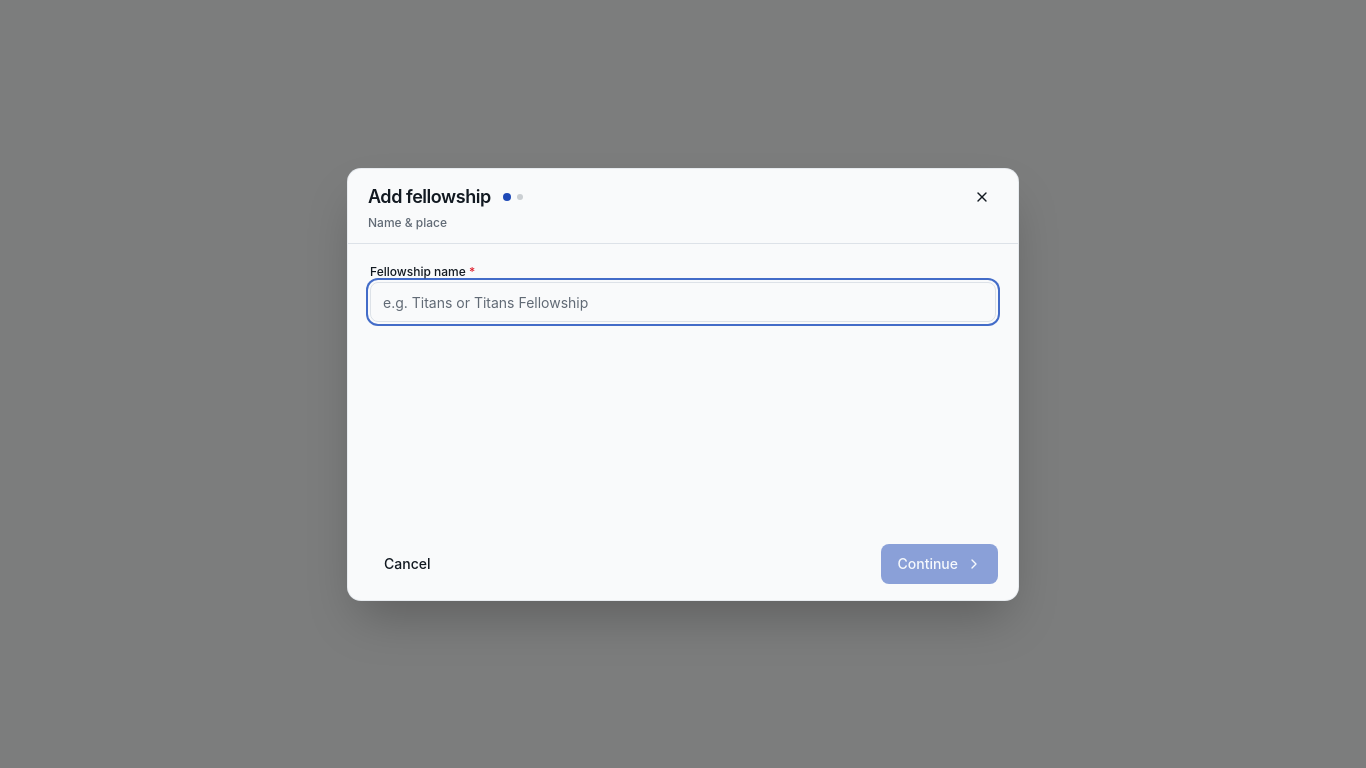
Test: UnitCreateWizard › shows state and home address on the US leader step and blocks continue without state
The width and height of the screenshot is (1366, 768).
Type "Zion" into the field labelled "Fellowship name *" at (683, 302), box [370,282,996,322]
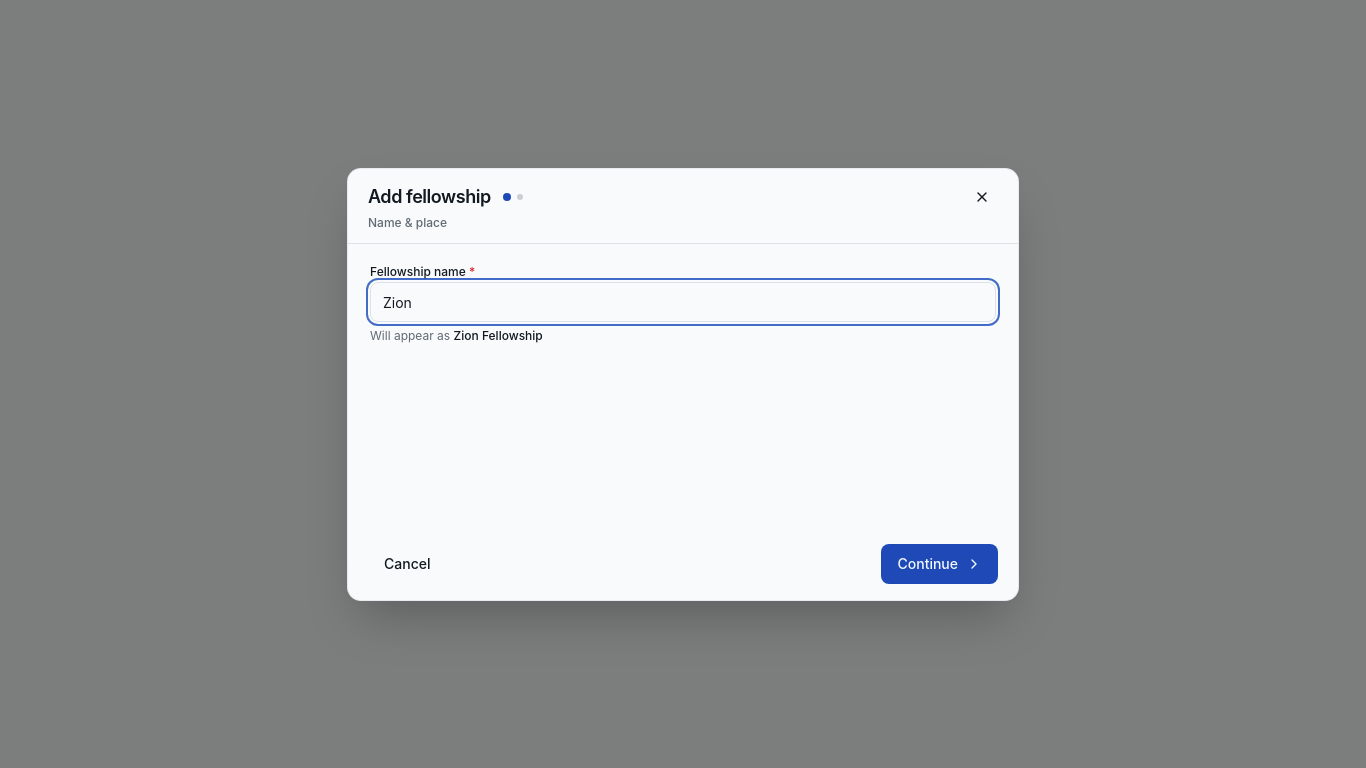
Click the button "Continue" at (940, 564), box [882,544,998,584]
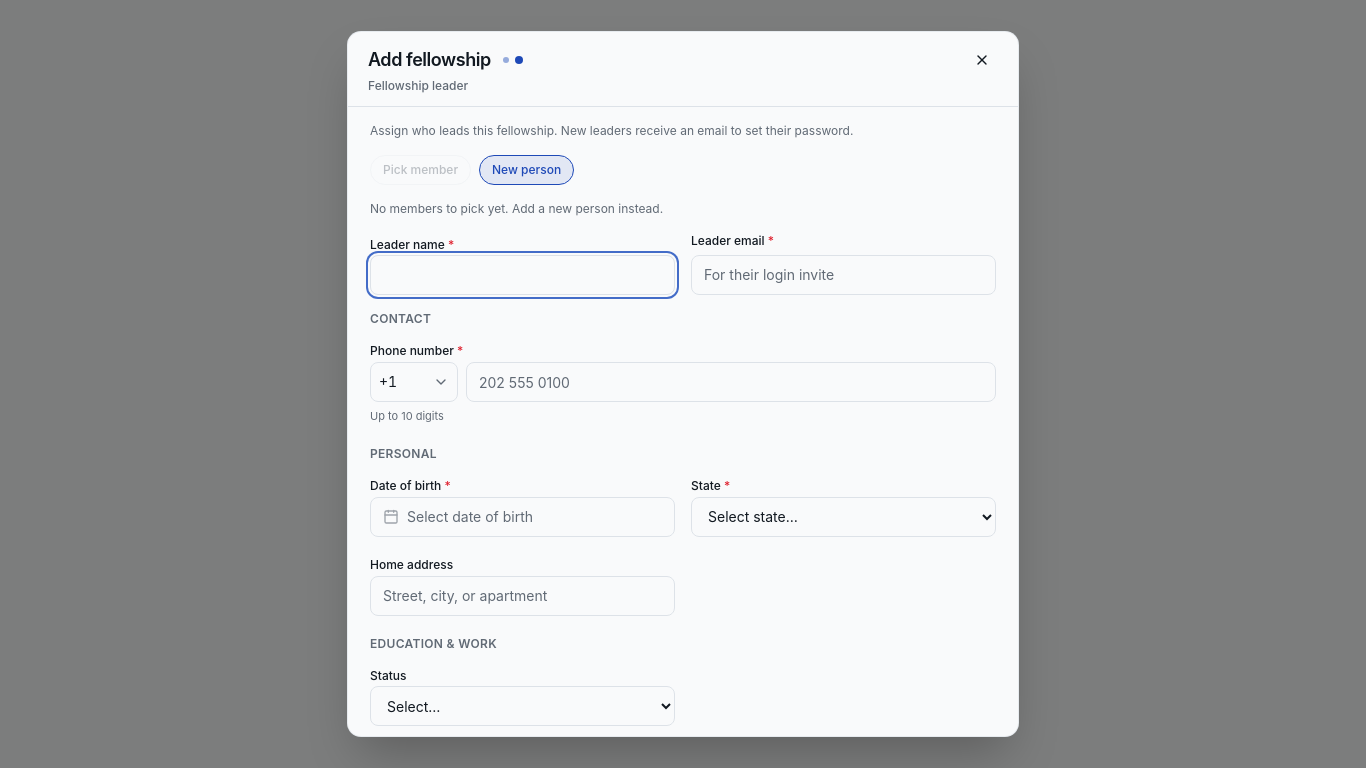
expect the field labelled "Home address" is shown: met, box [370,576,675,616]
expect the dropdown labelled "State *" is shown: met, box [691,497,996,537]
Type "Ada" into the field labelled "Leader name *" at (522, 276), box [370,256,675,296]
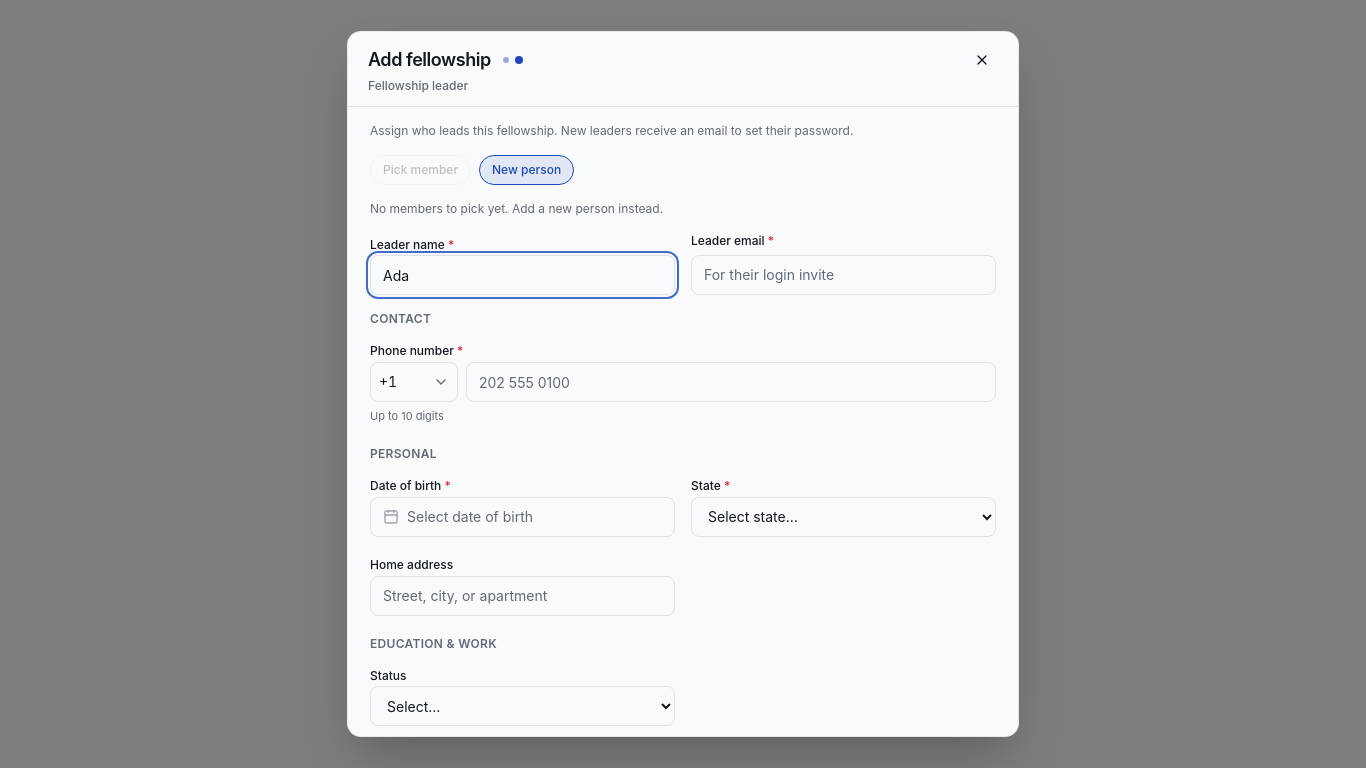
Type "ada@example.com" into the field labelled "Leader email *" at (844, 275), box [691,255,996,295]
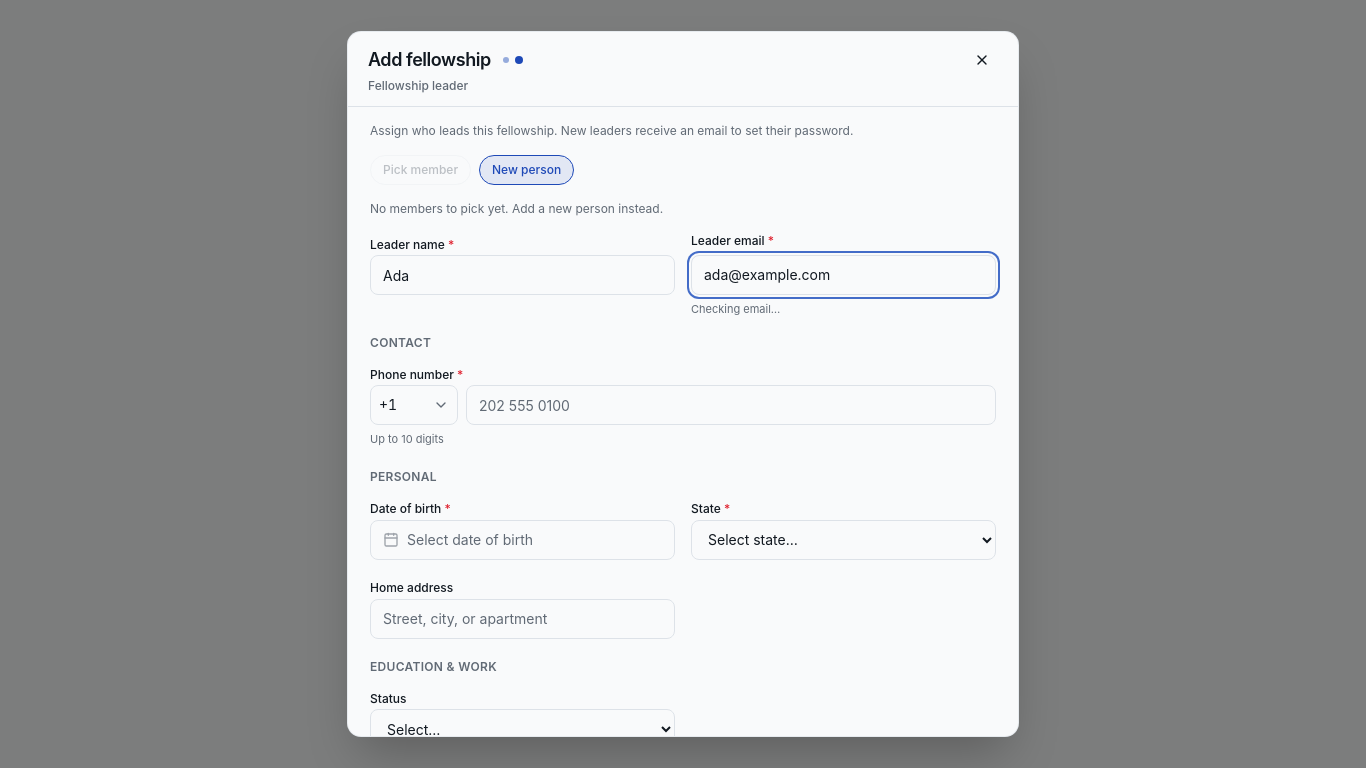
Type "2025550100" into the field labelled "Phone number *" at (731, 405), box [466,385,996,425]
(page scrolled)
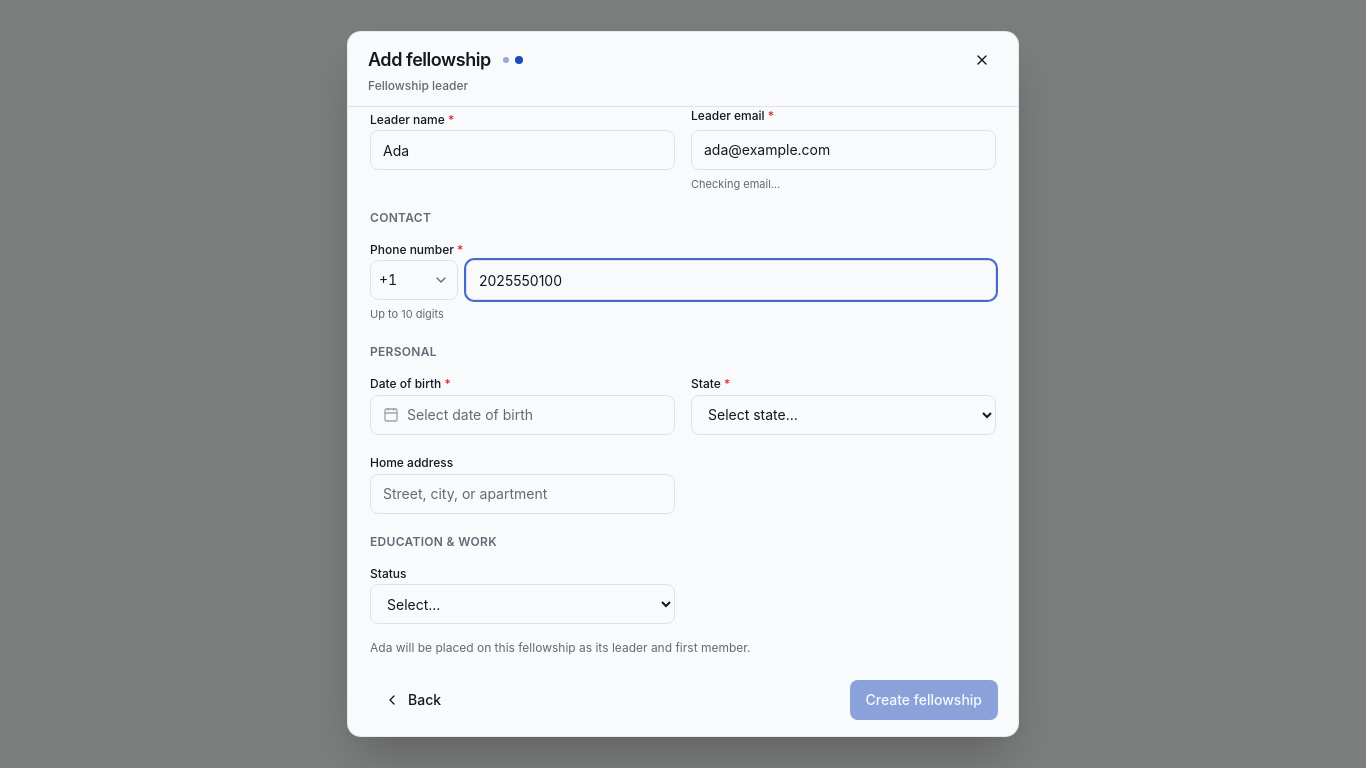
expect the button "Create fellowship" is disabled: met, box [850,680,998,720]
